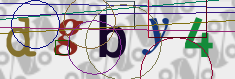4: (184, 16, 214, 58)
b: (98, 13, 127, 59)
d: (6, 16, 37, 59)
g: (53, 18, 84, 57)
y: (141, 17, 170, 55)
